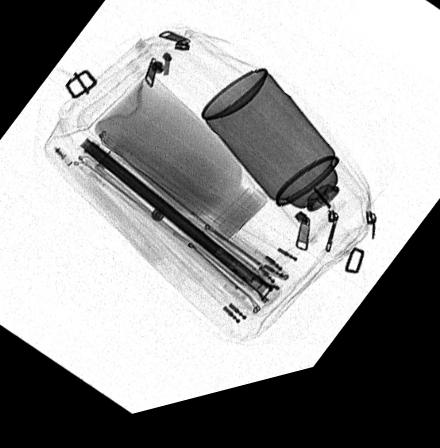Sprayer: (201, 81, 367, 259)
